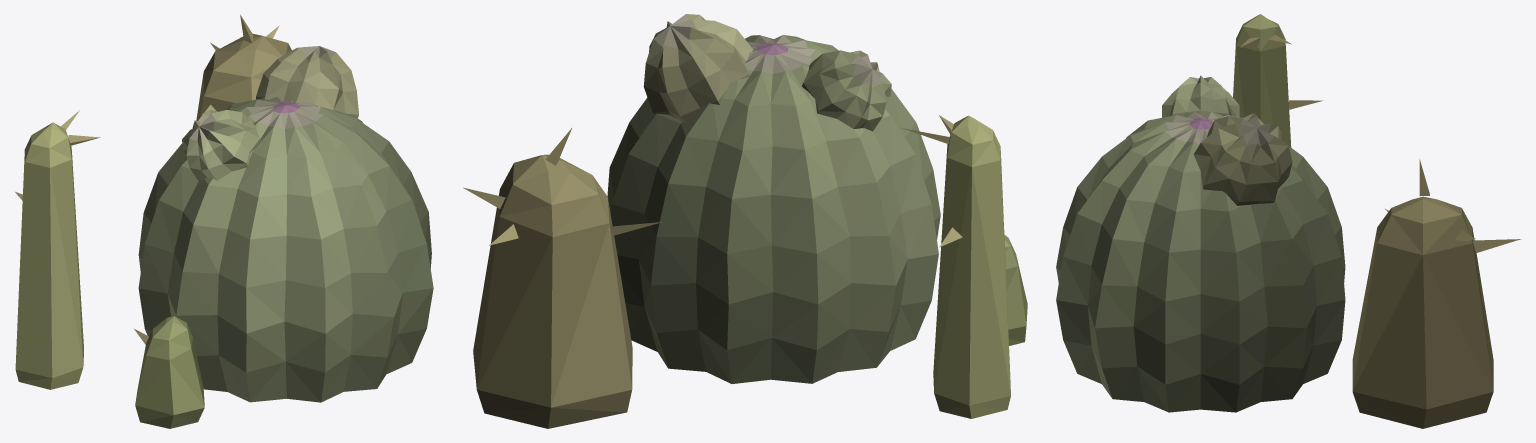
Rendered from cactus2.fbx.
3 views of the same model, side by side, from view 1: azimuth 30°, elevation 25°; view 2: azimuth 150°, elevation 25°; view 3: azimuth 270°, elevation 25° (orthographic). The views are drawn at different scales.
Visible parts, largest first — view 1: Object Cactus 2024-03-16_08-19-30; view 2: Object Cactus 2024-03-16_08-19-30; view 3: Object Cactus 2024-03-16_08-19-30.
Boxes of the visible parts, <box> form: Object Cactus 2024-03-16_08-19-30: <box>15,14,433,428</box>; Object Cactus 2024-03-16_08-19-30: <box>463,14,1027,428</box>; Object Cactus 2024-03-16_08-19-30: <box>1056,14,1521,428</box>.
Bounding box in the file's own units: 12500 × 8300 × 13200.
